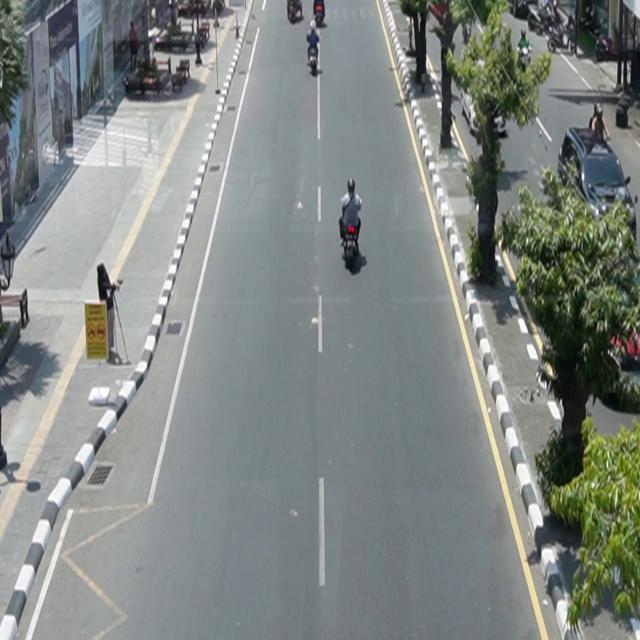car: (558, 126, 638, 242)
